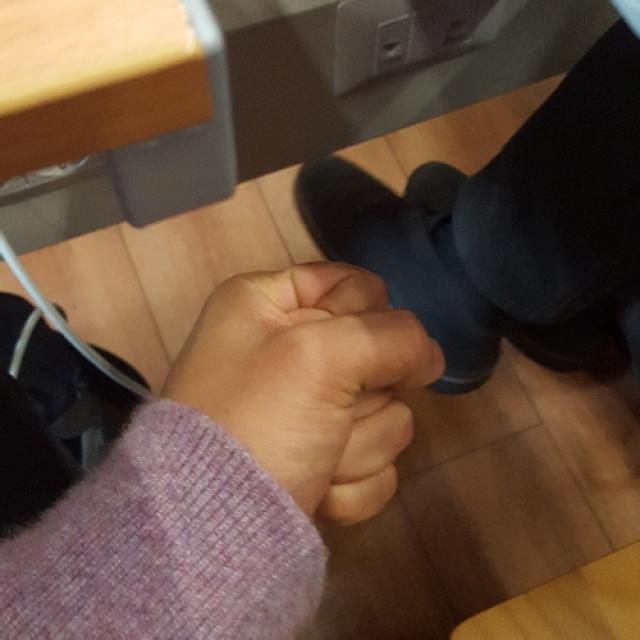fist: (157, 242, 461, 540)
